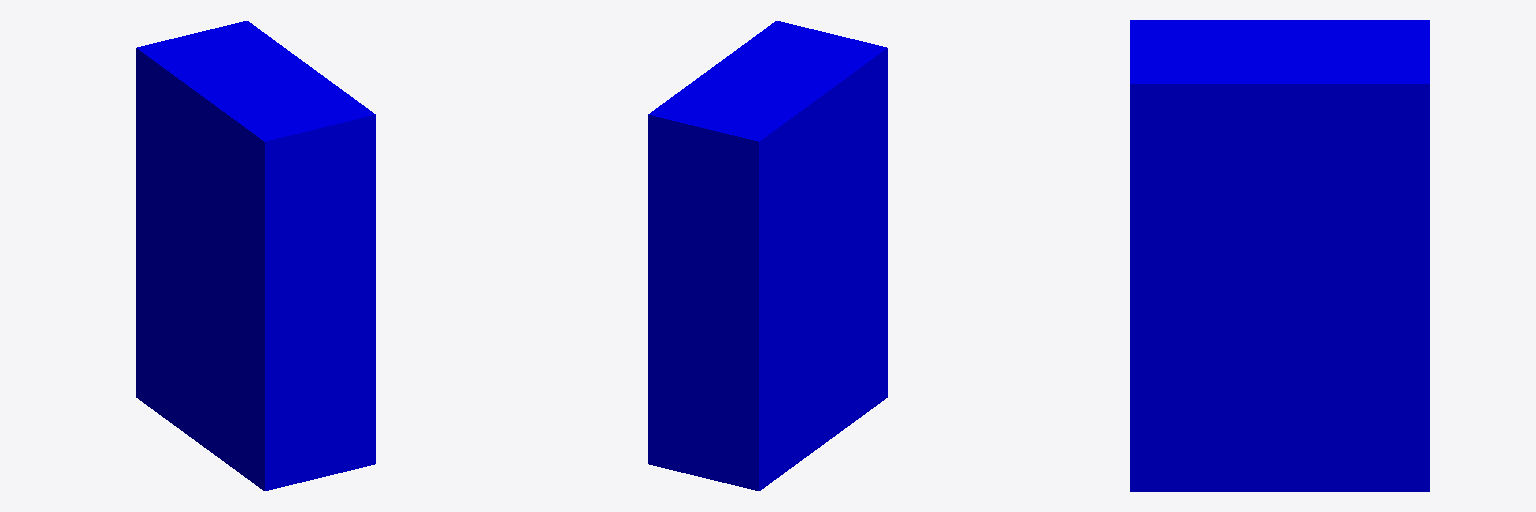
robot.urdf — box:
<?xml version="1.0" encoding="UTF-8" ?>
<robot name="box">

    <!-- link -->
    <link name="base">
        <visual>
            <geometry>
                <!-- x y z -->
                <box size="1 2 3"/>
            </geometry>
            <material name="blue">
                <!--
                 rgba: red green blue alpha
                 [0-255]
                 [0.0-1.0]　float
                 -->
                <color rgba="0 0 1.0 0.5"/>
            </material>
        </visual>
    </link>

</robot>

--- What the picture shows (computed from the rendered views, not written in the file) ---
The picture shows the robot from 3 angles, left to right: view 1: azimuth 30°, elevation 25°; view 2: azimuth 150°, elevation 25°; view 3: azimuth 270°, elevation 25°; orthographic projection.
Robot: box — 1 links, 0 joints (none); root link base; default pose: every joint at zero.
Visible links, largest first — view 1: base; view 2: base; view 3: base.
Boxes of the visible links, x1=… form: base: x1=136, y1=21, x2=375, y2=490; base: x1=648, y1=21, x2=887, y2=490; base: x1=1130, y1=20, x2=1429, y2=491.
Bounding box of the posed robot: 1 × 2 × 3 m (x, y, z).
Geometry: primitives only (box / cylinder / sphere), no mesh files.
